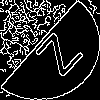Z: (25, 25, 85, 78)
